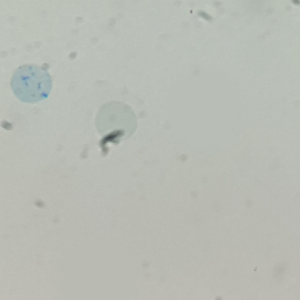aggregate reticulocyte: (9, 63, 54, 105)
erythrocyte: (93, 100, 138, 144)
